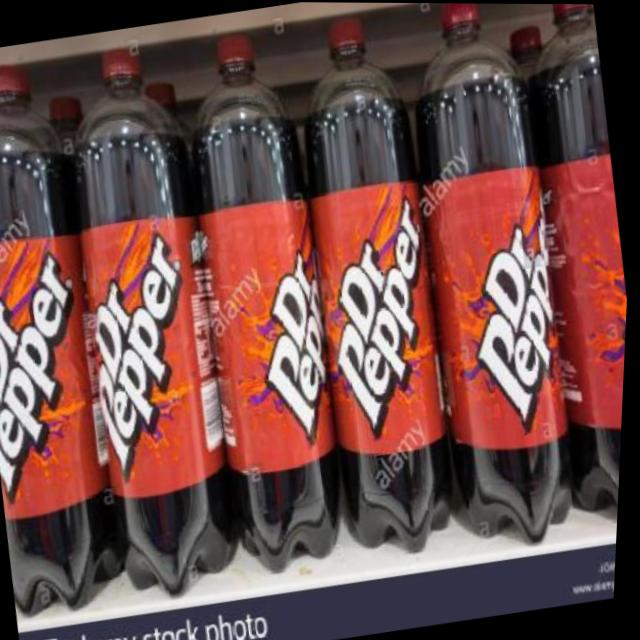Drinks: (40, 39, 263, 607), (379, 2, 604, 555), (269, 6, 485, 562), (158, 24, 372, 577), (0, 54, 146, 620)
